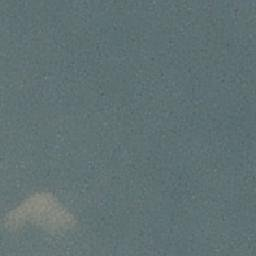debris: (19, 193, 52, 211), (55, 203, 72, 223), (7, 212, 27, 224)
